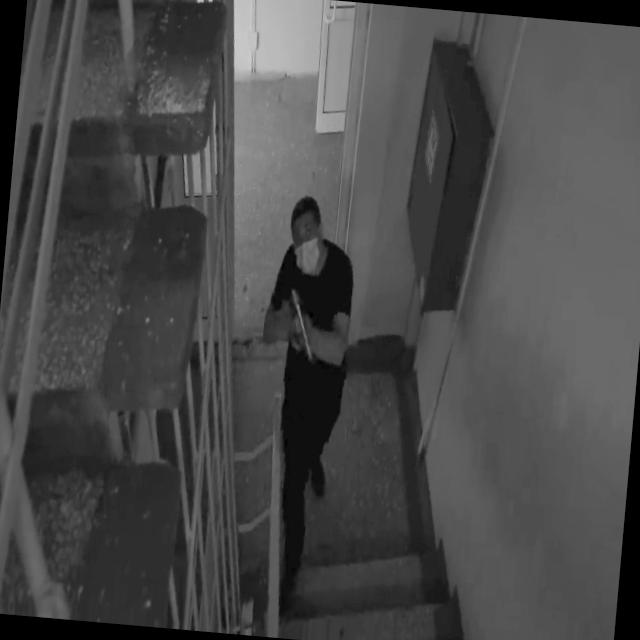gun: (281, 286, 320, 366)
person with a gun: (240, 192, 362, 596)
